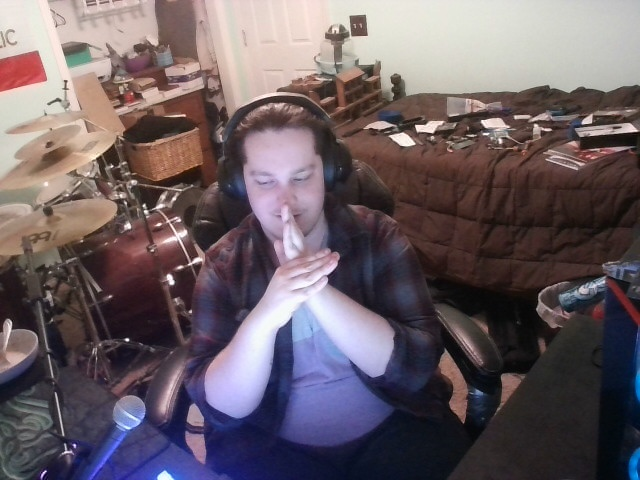quiet: (233, 203, 378, 329)
